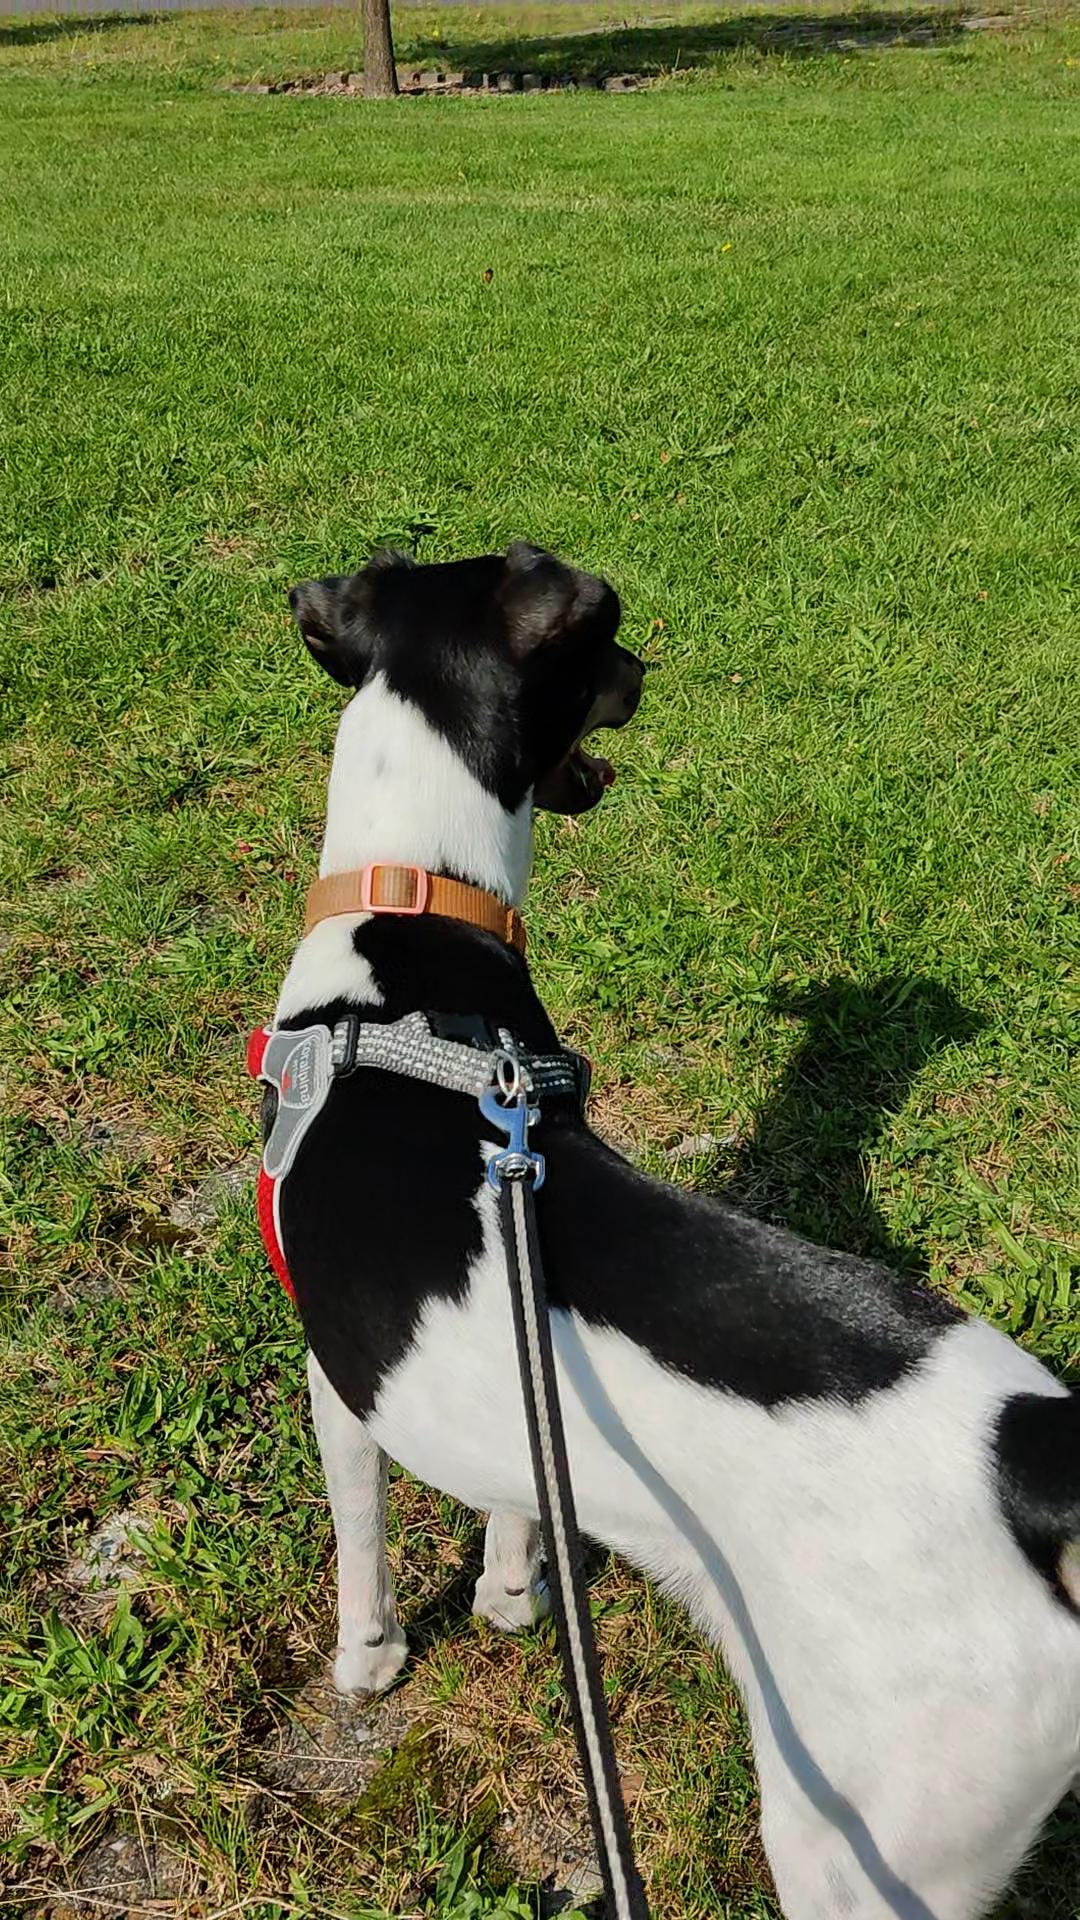Dog: (243, 535, 1079, 1919)
